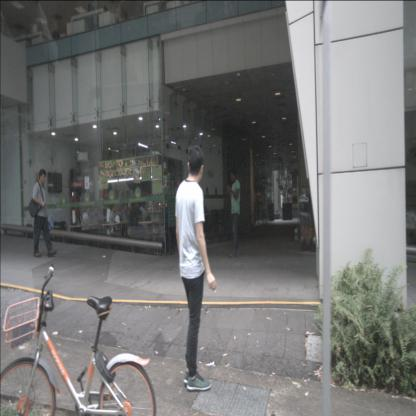human-pedestrian-adult: (175, 145, 217, 392), (29, 169, 57, 258), (226, 170, 240, 258), (109, 204, 125, 248), (129, 201, 142, 252), (136, 201, 148, 249), (81, 206, 94, 250), (145, 188, 155, 238), (89, 206, 101, 247), (120, 203, 130, 248)
vehicle-bicycle: (0, 265, 157, 415)
